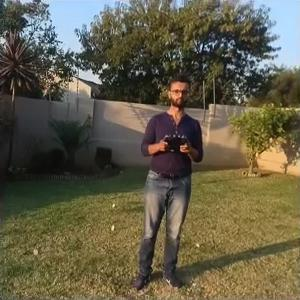follow: (127, 68, 205, 294)
